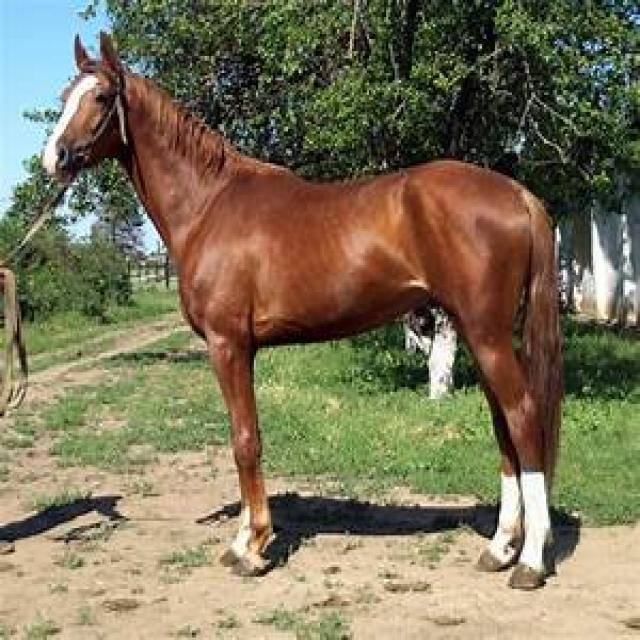horse: (41, 32, 565, 591)
